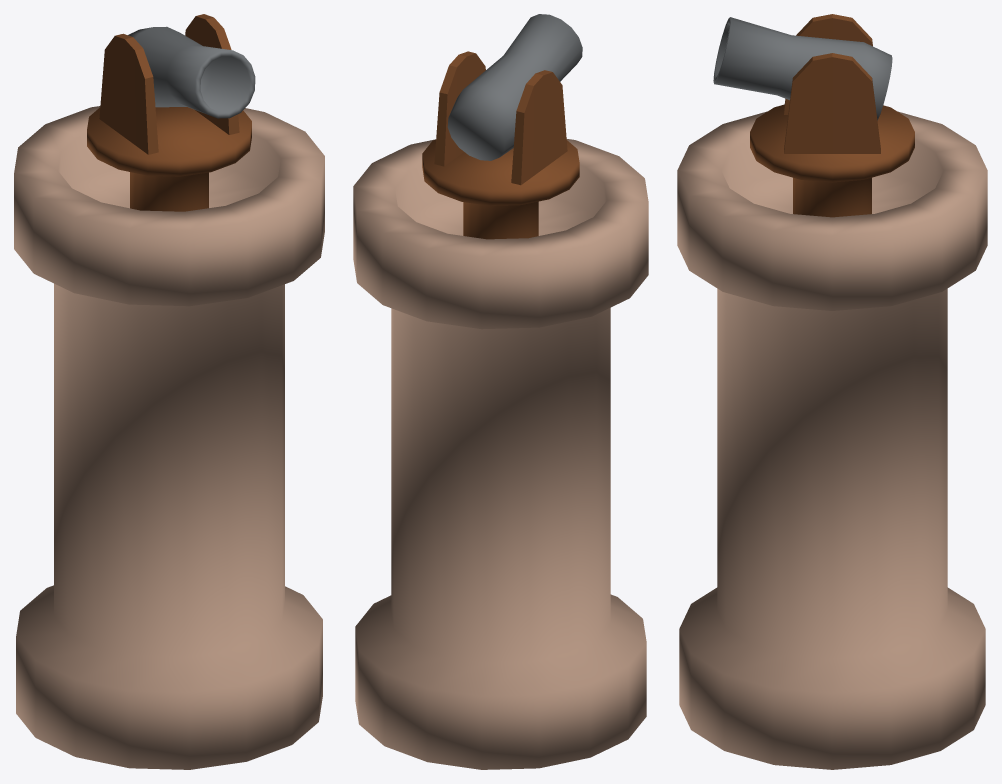
File: Test_tour.fbx
3 views of the same model, side by side, from view 1: azimuth 30°, elevation 25°; view 2: azimuth 150°, elevation 25°; view 3: azimuth 270°, elevation 25° (orthographic). The views are drawn at different scales.
Visible parts, largest first — view 1: Cube.001; view 2: Cube.001; view 3: Cube.001.
Boxes of the visible parts, x1,y1,x2,y2 form: Cube.001: (14, 14, 324, 769); Cube.001: (353, 14, 648, 769); Cube.001: (677, 14, 987, 769).
Bounding box in the file's own units: 367 × 894 × 367.
